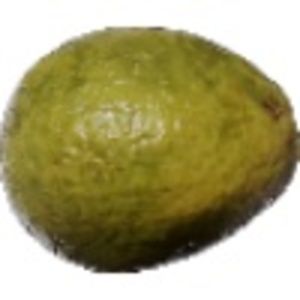goiaba: (6, 19, 296, 276)
